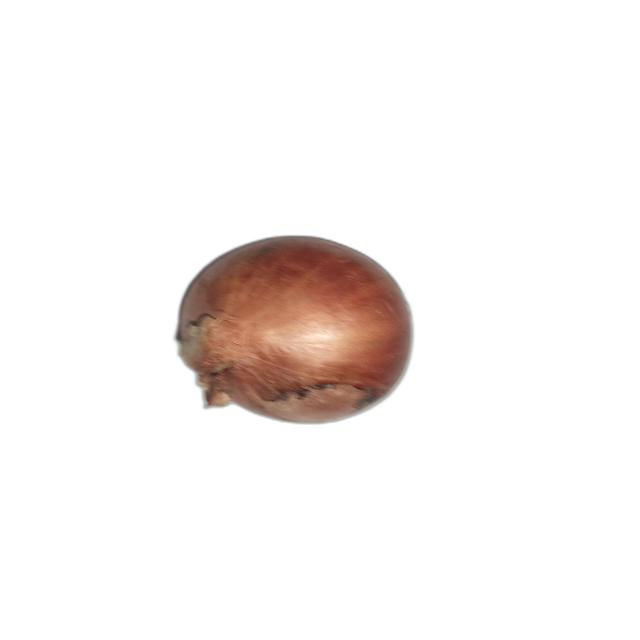onion: (175, 236, 413, 424)
